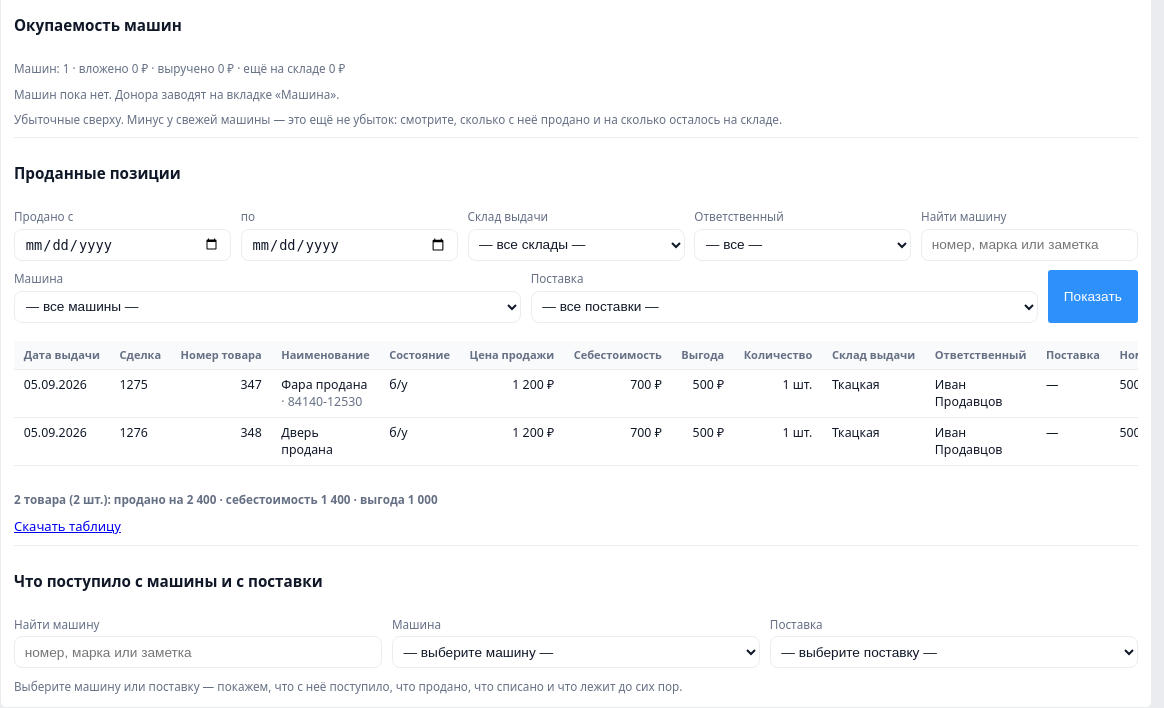
Test: отчёты владельца › разрез по машине: номер в клетке наименования
The image size is (1164, 708).
(page scrolled)
Select "418 · Toyota Camry 2007" in the 2nd dropdown labelled "Машина": (576,652) [392,636,760,668]
(page scrolled)
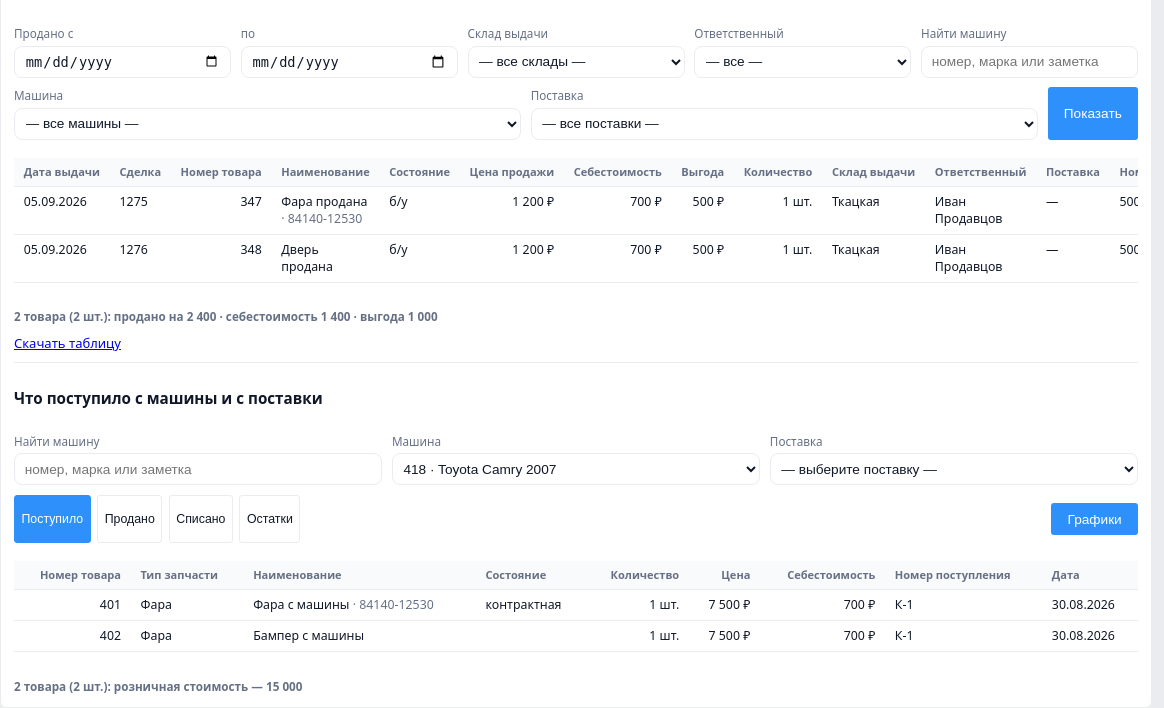
Expected: the 5th row is shown, [14,589,1138,620]
Expected: the cell "контрактная" is shown, [476,589,587,620]
Expected: the cell "Бампер с машины" is shown, [243,620,476,651]
